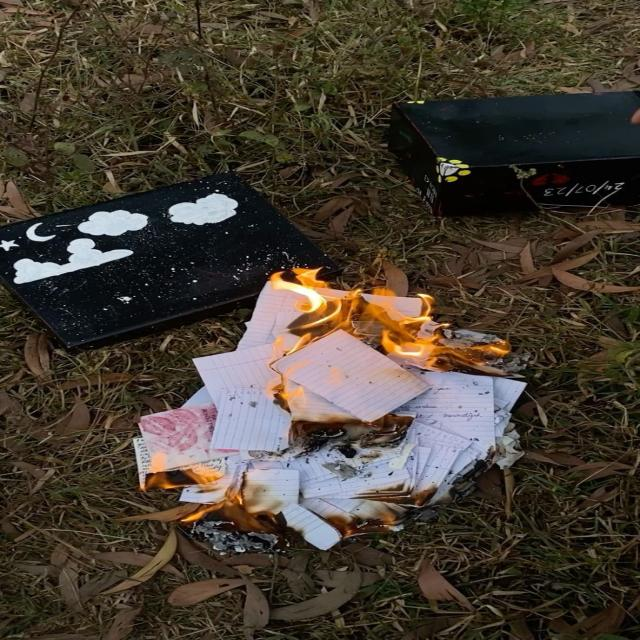fire: (268, 273, 504, 379)
